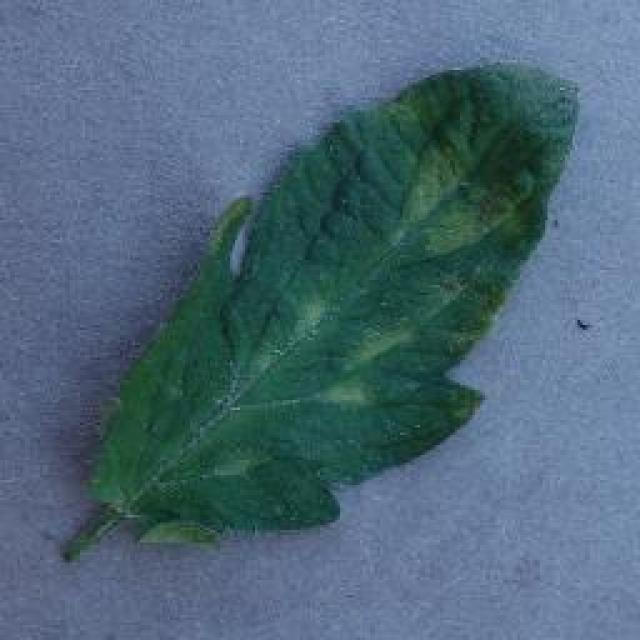Tomato mold leaf: (58, 61, 580, 574)
